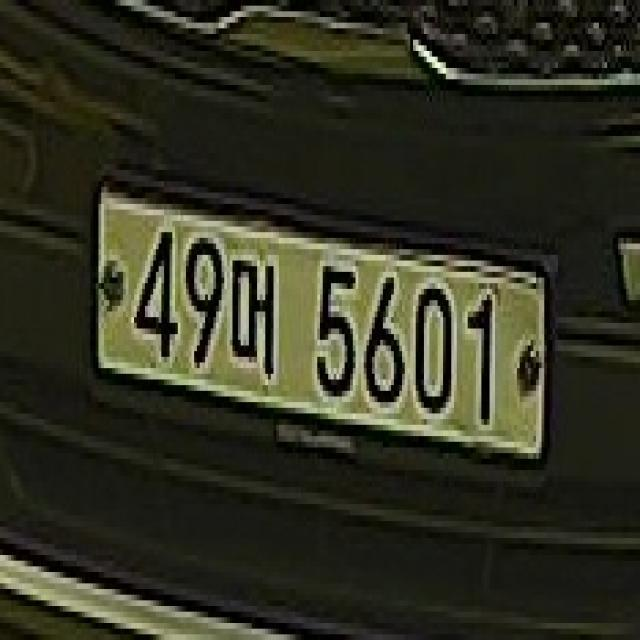0: (412, 274, 458, 421)
1: (466, 286, 502, 428)
4: (134, 226, 178, 364)
5: (310, 253, 359, 408)
6: (363, 262, 407, 410)
9: (184, 235, 223, 373)
license_plate: (72, 163, 557, 487)
meo: (227, 242, 284, 392)
